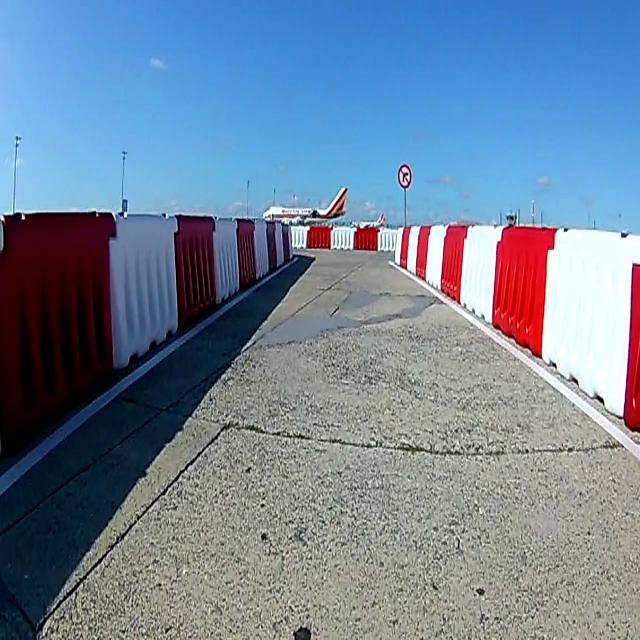sagadonulmez: (397, 162, 412, 191)
